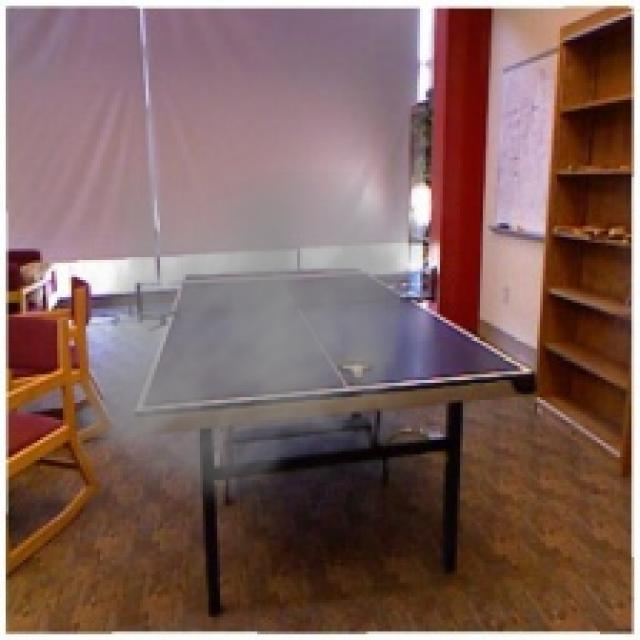smoke: (77, 172, 420, 514)
